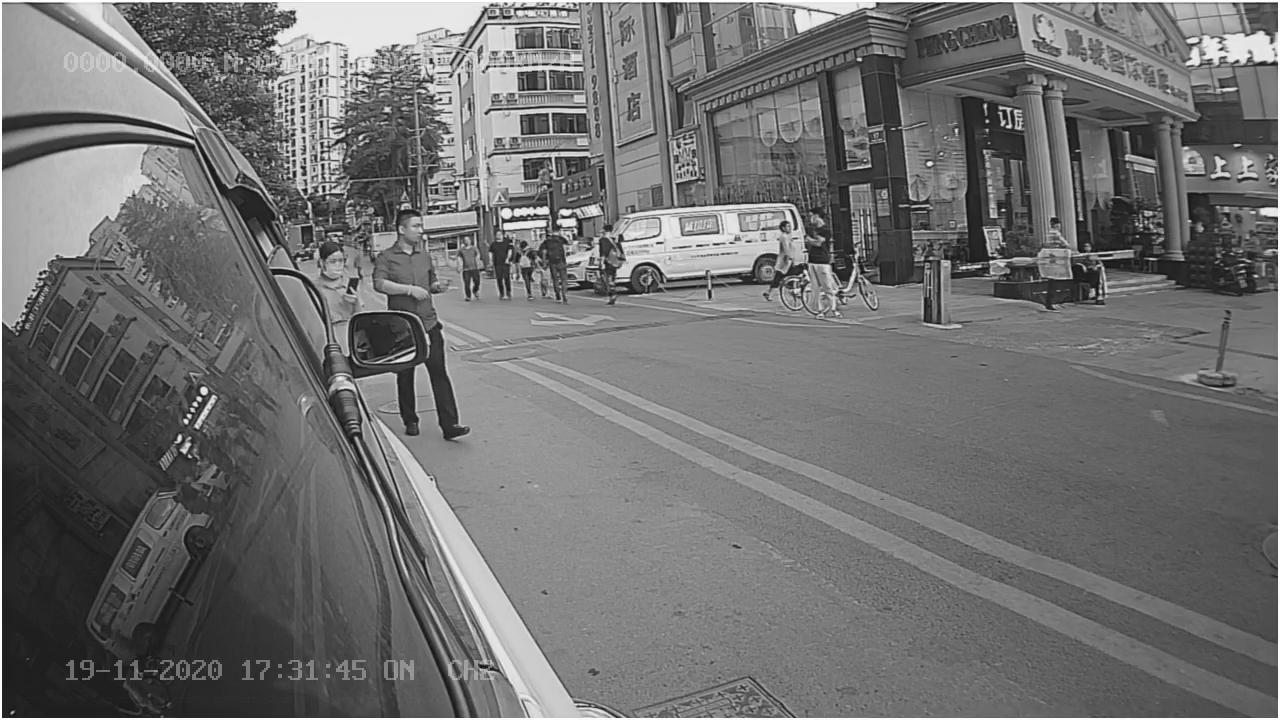person: (373, 200, 455, 305)
